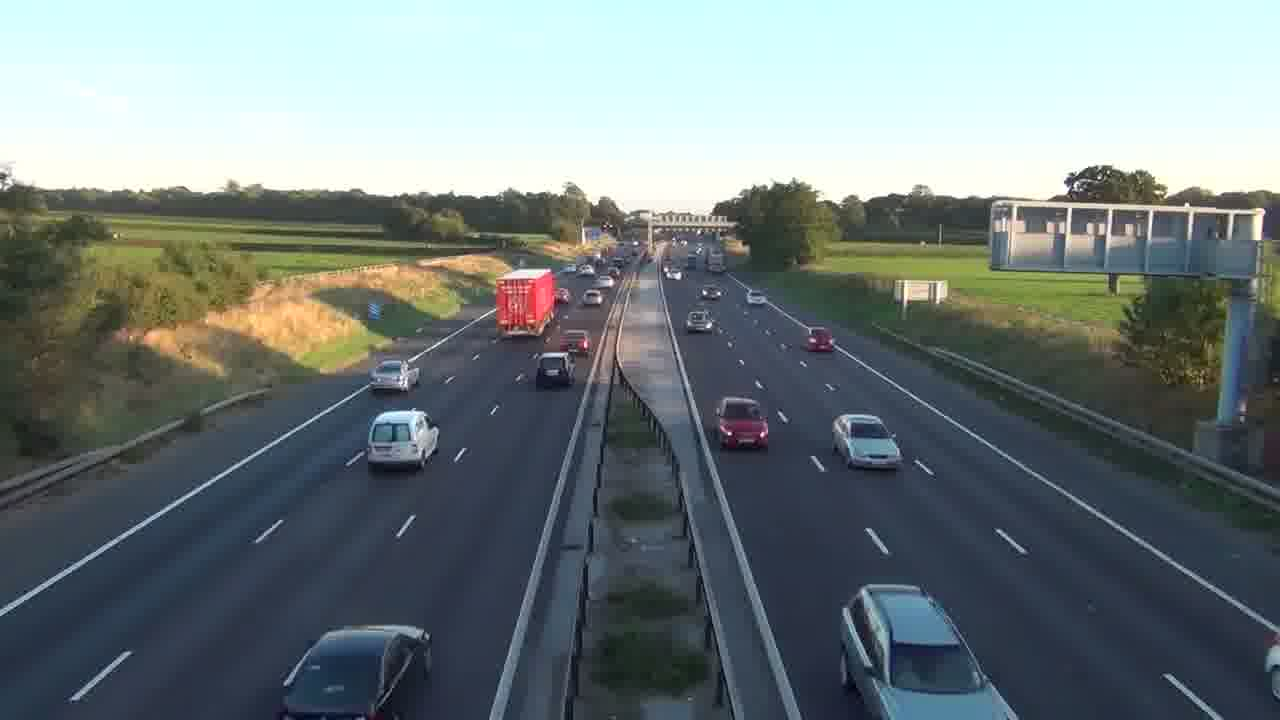bus: (495, 267, 557, 338)
car: (839, 583, 1020, 720), (276, 624, 432, 718), (366, 408, 439, 473), (831, 412, 902, 471), (716, 396, 770, 452), (367, 356, 421, 393), (534, 351, 576, 389), (1264, 638, 1279, 703), (804, 325, 834, 353), (685, 307, 713, 333), (700, 284, 724, 299)
truck: (495, 267, 557, 338)
